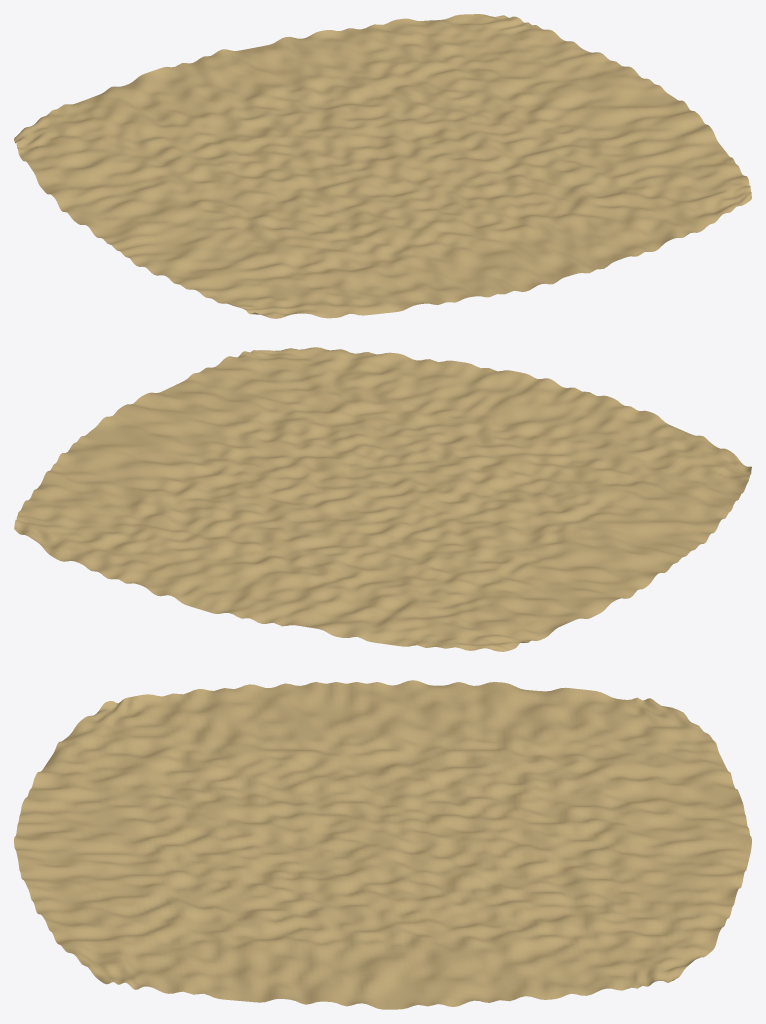
Rendered from floor_spyro.fbx.
3 renders of one model, top to bottom at view 1: azimuth 30°, elevation 25°; view 2: azimuth 150°, elevation 25°; view 3: azimuth 270°, elevation 25°, orthographic. The views are drawn at different scales.
Visible parts, largest first — view 1: Plane.001; view 2: Plane.001; view 3: Plane.001.
Boxes of the visible parts, <box> form: Plane.001: <box>14,14,751,318</box>; Plane.001: <box>14,347,751,651</box>; Plane.001: <box>14,680,751,1009</box>.
Bounding box in the file's own units: 9384 × 78.07 × 9033.
